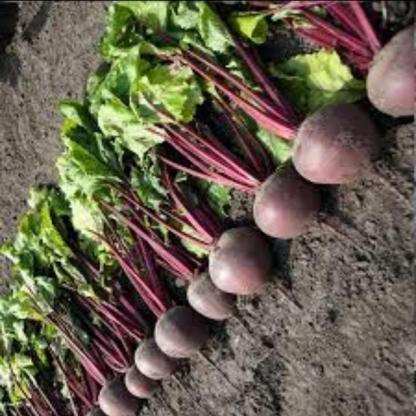beet: (288, 91, 380, 185), (201, 221, 290, 299), (249, 159, 327, 238), (360, 24, 416, 114), (148, 298, 218, 362), (183, 268, 244, 320), (130, 338, 182, 383), (96, 378, 140, 416), (118, 370, 165, 403)
